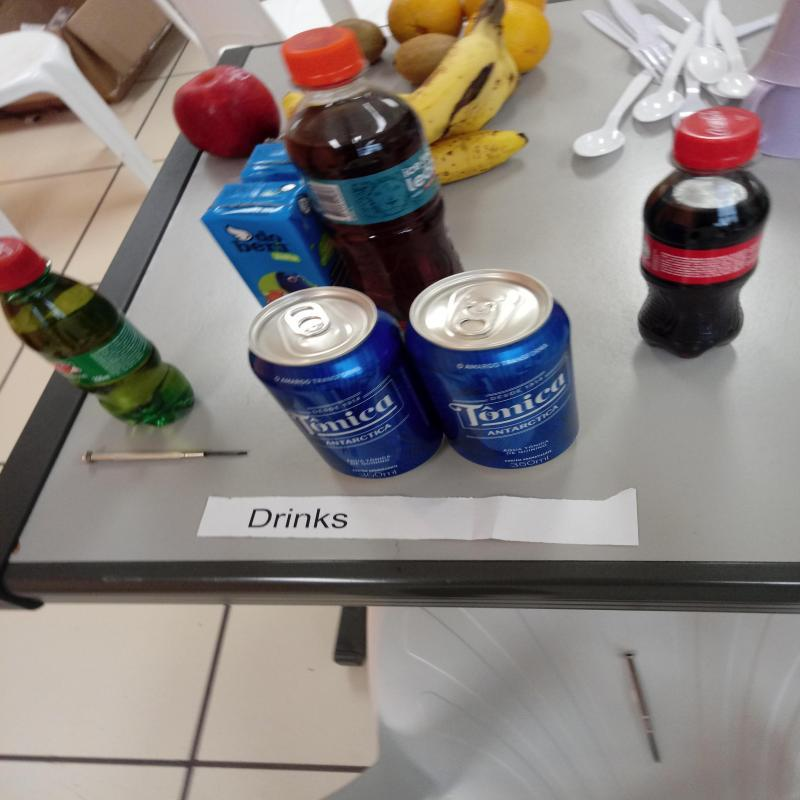Apple: (170, 65, 282, 162)
Banana: (398, 0, 520, 144), (429, 130, 528, 186)
CoconutWater: (201, 177, 333, 308)
Coke: (637, 106, 772, 360)
Guarana: (0, 234, 194, 428)
IceTea: (282, 27, 464, 320)
Kiwi: (388, 38, 464, 78)
Orange: (500, 0, 558, 72), (384, 2, 469, 38)
Tonic: (246, 287, 440, 481), (405, 270, 580, 472)
